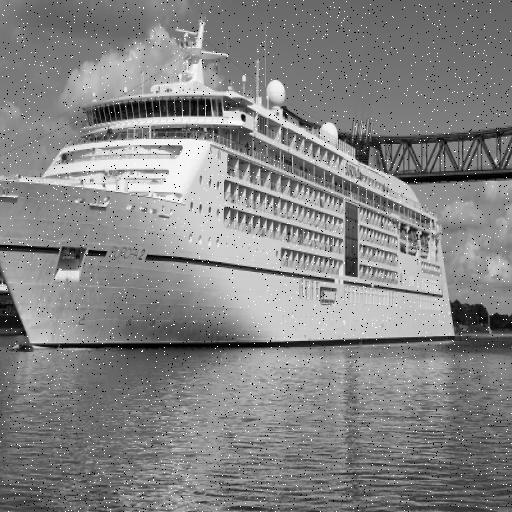cruises: (1, 18, 460, 359)
